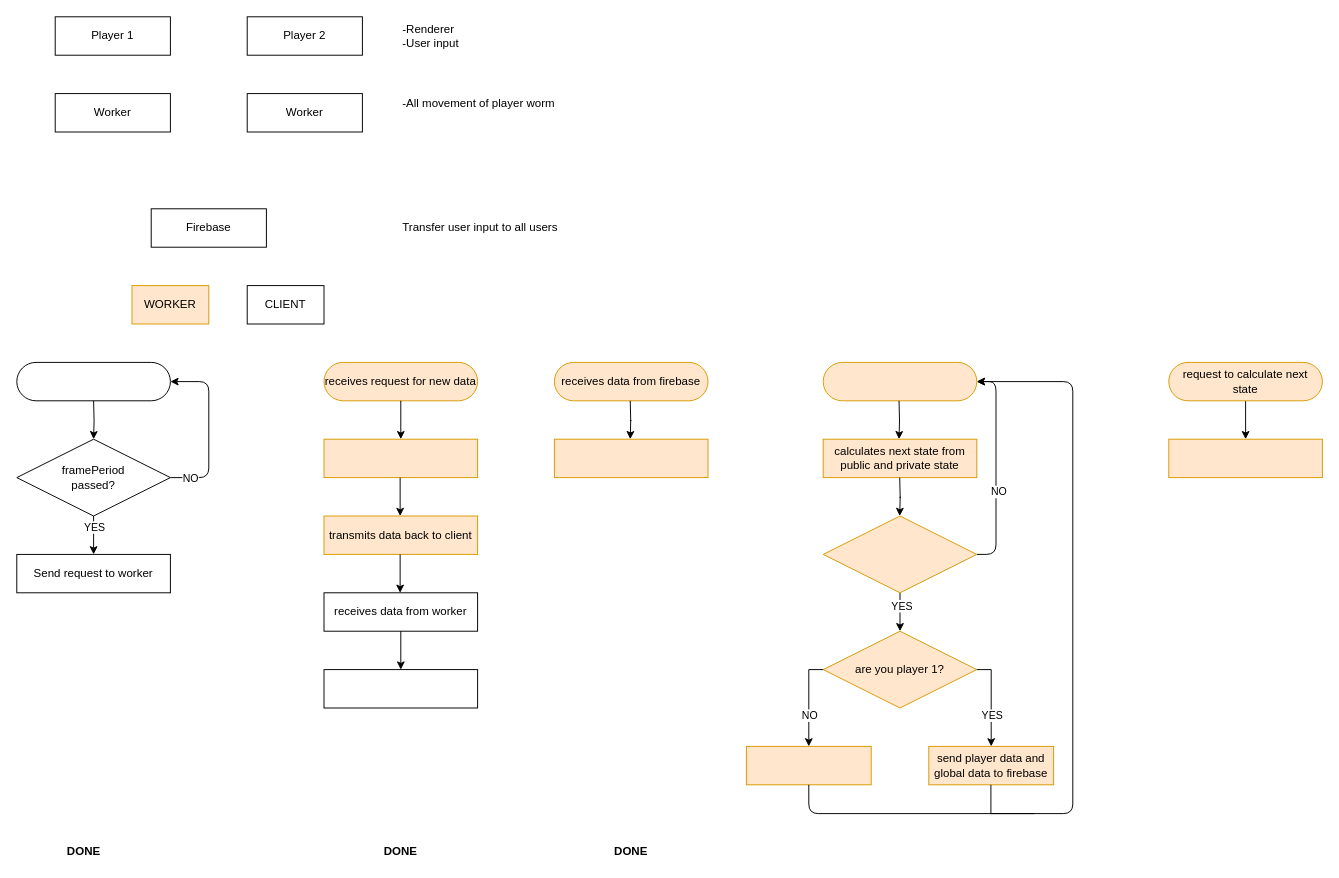
The diagram is 1339 pixels wide and 878 high, and some of its shapes have lost their labels. The shapes that lost their labels are listed below. From the top down, each one's box as (x1, y1, x2, y2) in pixels, then its label:
(16, 361, 170, 401): requestAnimationFrame
(822, 361, 977, 401): timer
(323, 438, 478, 478): copy localState from client to worker
(553, 438, 708, 478): overwrite public state
(1168, 438, 1322, 478): update your own position
(822, 515, 977, 593): new data?
(323, 669, 478, 708): render
(745, 745, 871, 785): send player data to firebase
